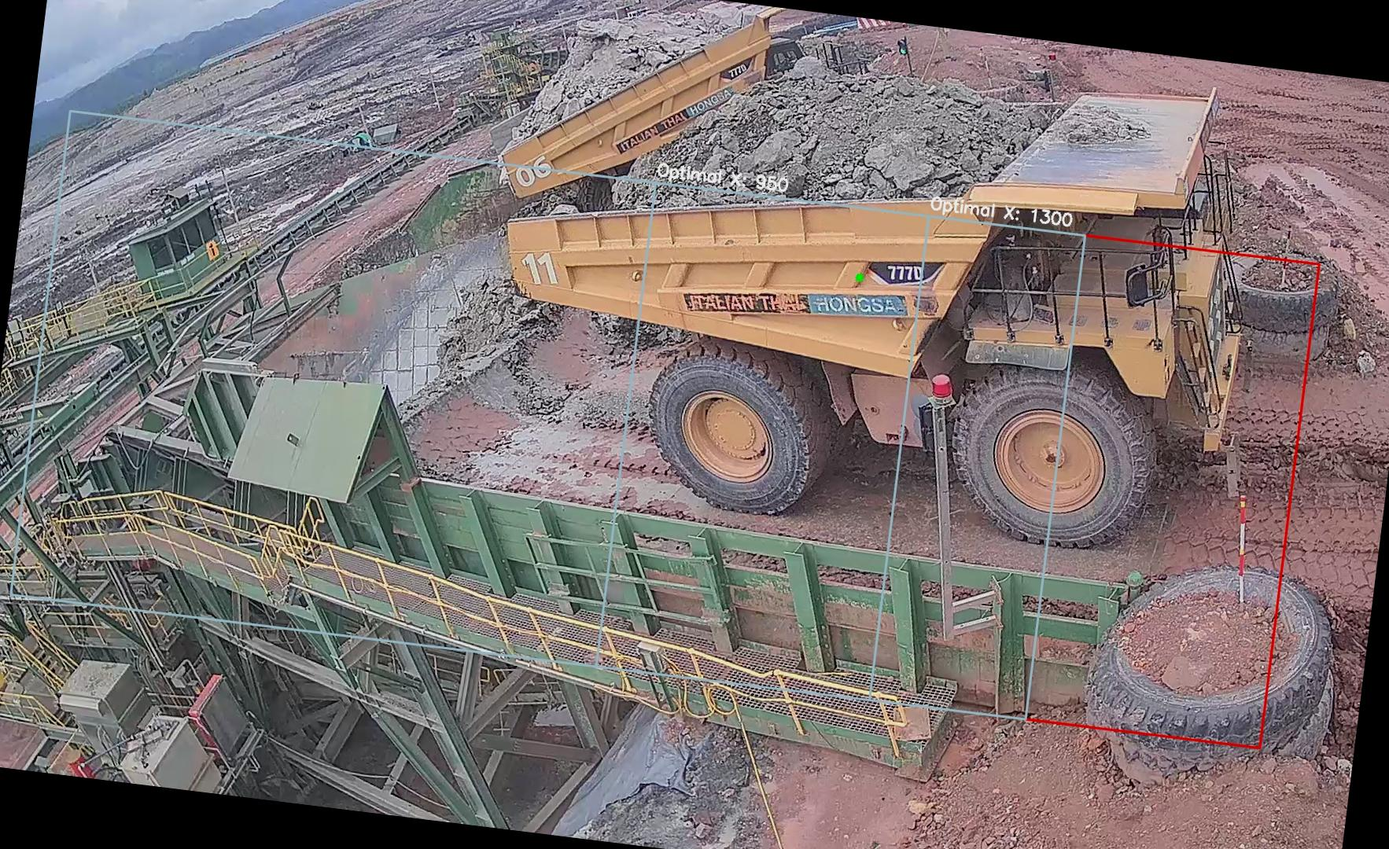company: (671, 265, 921, 343)
full_load: (674, 45, 1028, 235)
mining_truck: (468, 6, 1298, 572)
tail_number: (514, 244, 569, 300)
truck_size: (861, 245, 946, 292)
